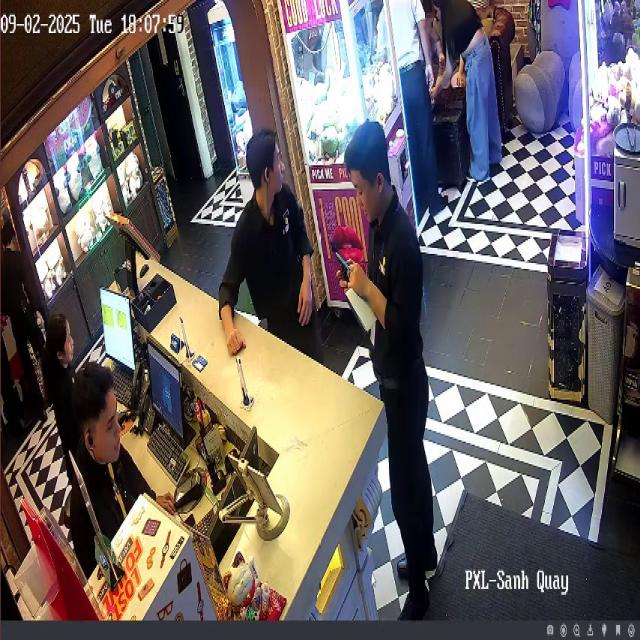khach: (430, 0, 517, 180), (388, 0, 446, 212)
nhan vien: (336, 114, 456, 613), (221, 102, 334, 415), (66, 357, 148, 556), (38, 296, 84, 479)
